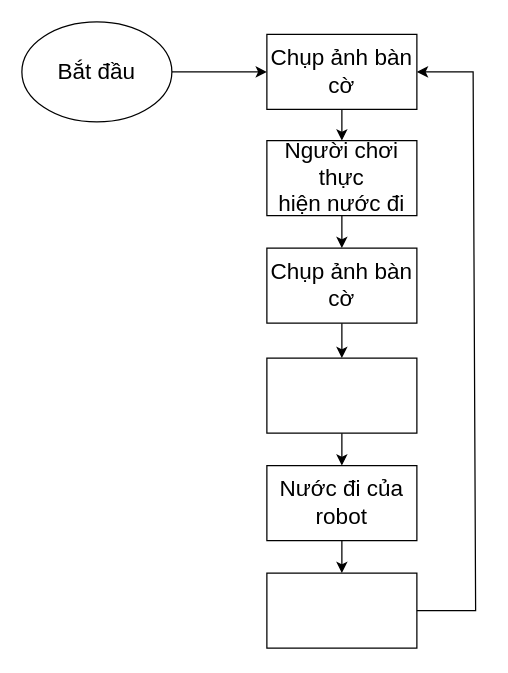
Image size: 508x673. Some labels were removed from this diagram. The shapes that lost their labels are listed below. From the top down, each one's centre as x and y in pixels, then its label:
At point 341,395: "Nước đi người chơi".
At point 341,610: "Thực hiện nước đi của robot".
